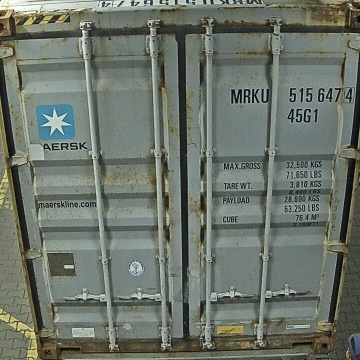serial_id: (231, 87, 354, 102)
